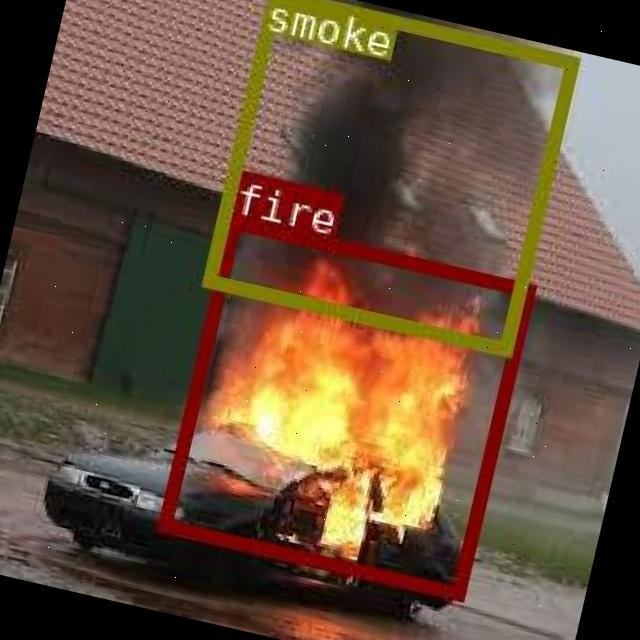fire: (154, 211, 534, 598)
smoke: (201, 0, 576, 352)
